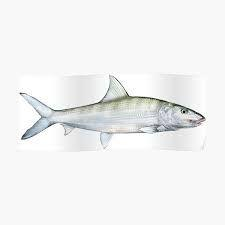Indo-Pacific Tarpon: (16, 74, 206, 152)
